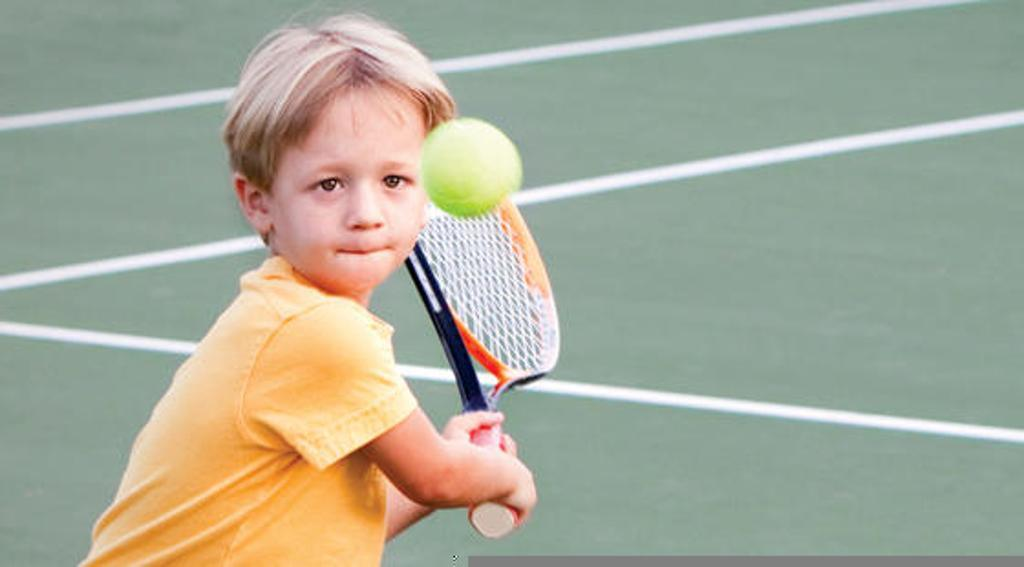face: (273, 85, 425, 289)
